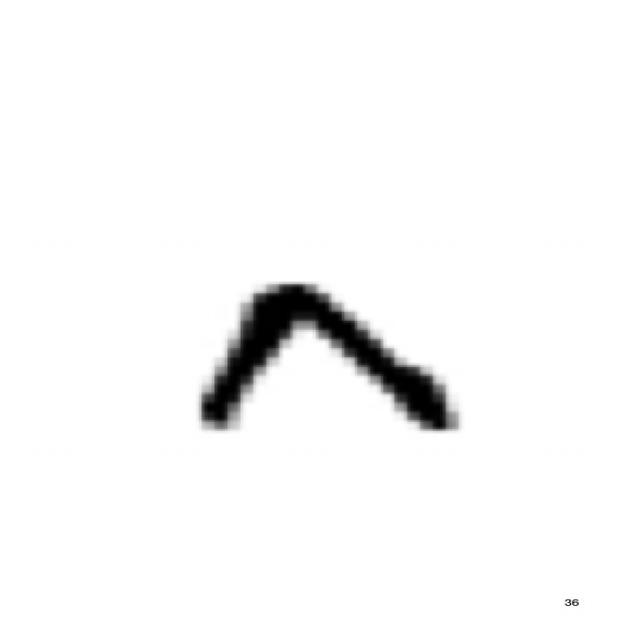8 -eight-: (169, 266, 480, 446)
